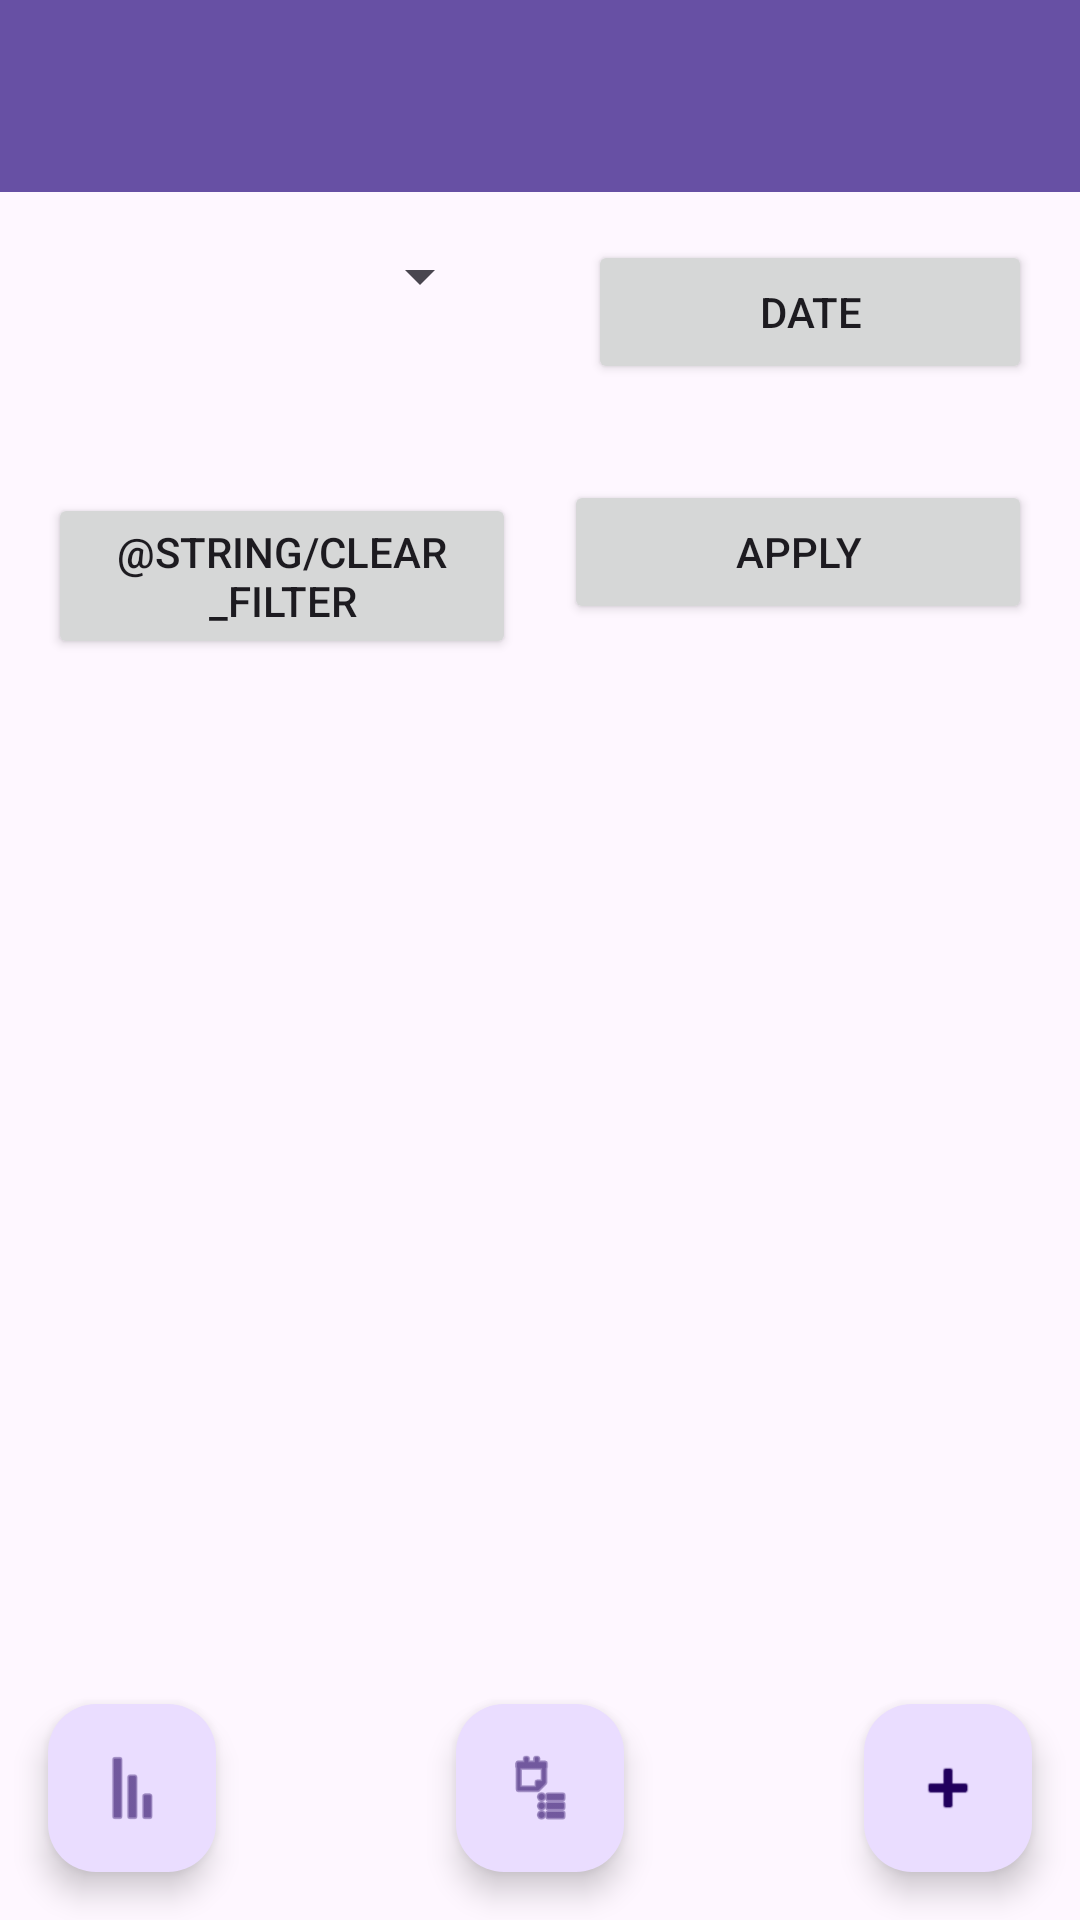

Icon click points for this 1080w x 1920h phone screenshot, format (x=x, y=y):
Add Expense: (x=948, y=1788)
agenda: (x=540, y=1788)
